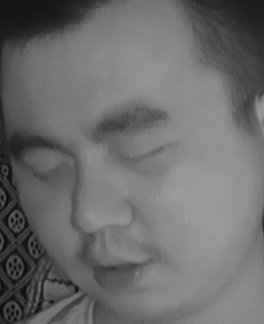blink: (117, 137, 173, 174), (26, 155, 68, 188)
mouth: (75, 243, 157, 299)
